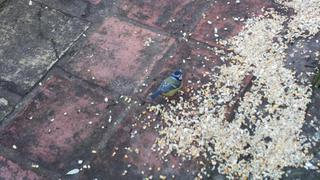blue tit: (150, 68, 183, 99)
